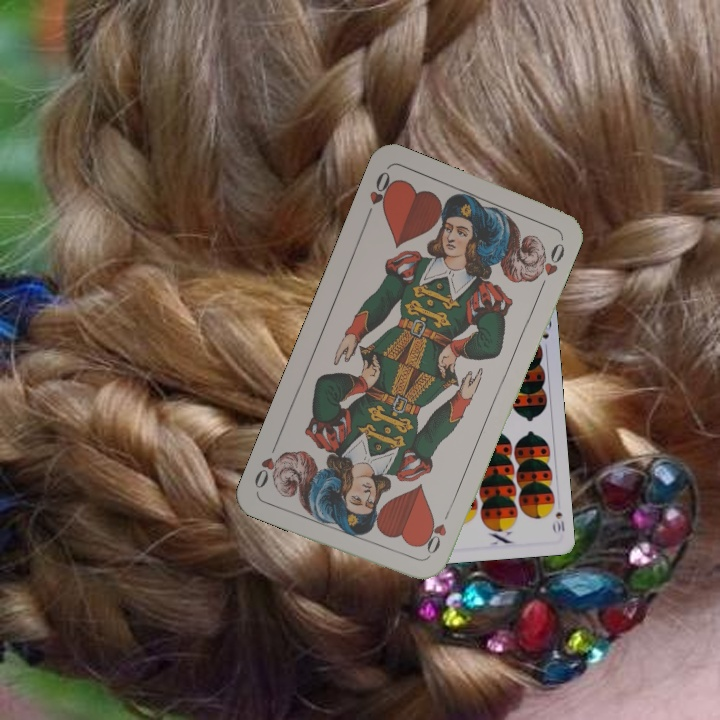HO: (361, 167, 398, 222), (422, 504, 453, 560)
S10: (549, 507, 567, 536)
